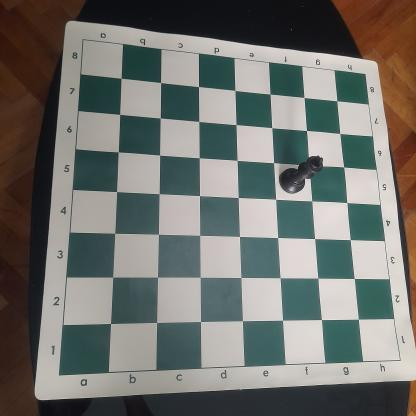black-king: (278, 154, 324, 194)
